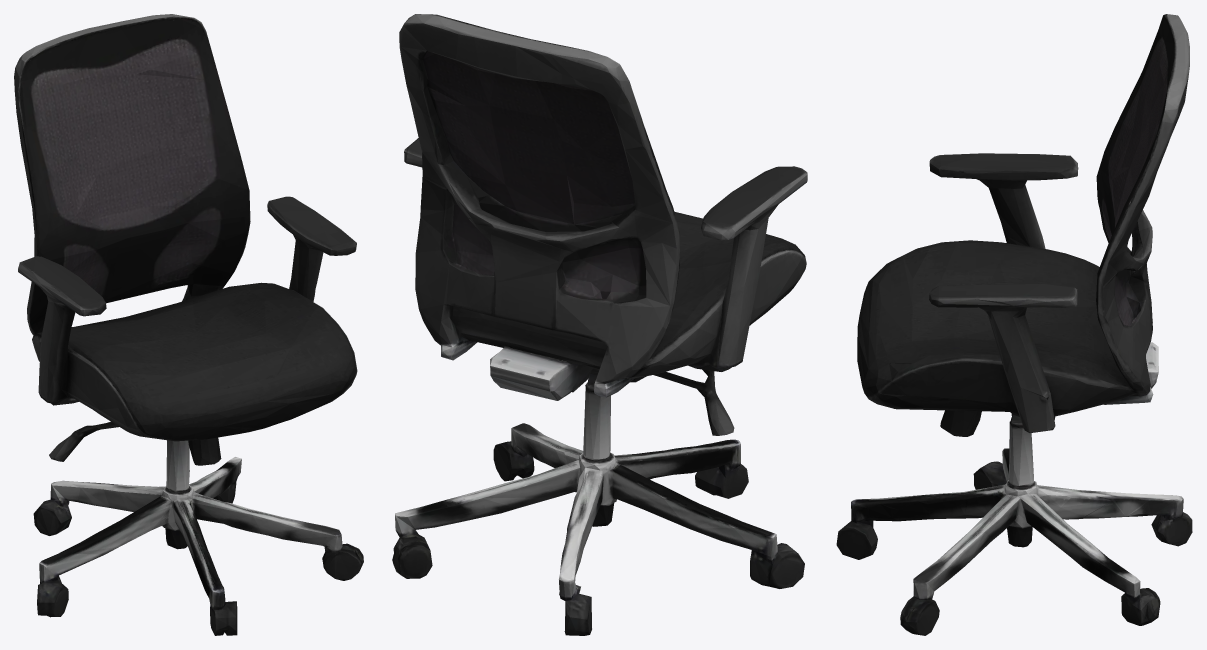
The model's file is officeChair.glb.
The picture shows the model from 3 angles, left to right: view 1: azimuth 30°, elevation 25°; view 2: azimuth 150°, elevation 25°; view 3: azimuth 270°, elevation 25°; orthographic projection. The views are drawn at different scales.
Parts seen in each view (by area): view 1: world; view 2: world; view 3: world.
Part boxes in pixels (<box>): world: <box>14,14,363,635</box>; world: <box>392,14,807,635</box>; world: <box>836,14,1192,635</box>.
Bounding box in the file's own units: 0.6404 × 1 × 0.6211.
1 material, 1 textured.
